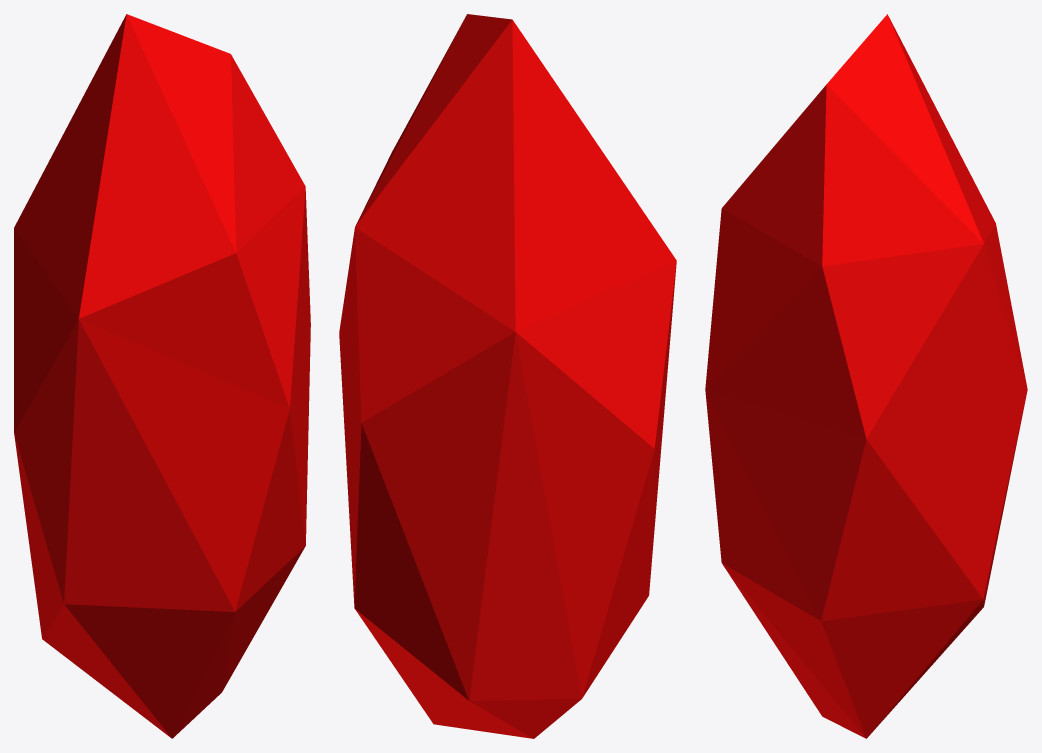
The model's file is red.fbx.
3 views of the same model, side by side, from view 1: azimuth 30°, elevation 25°; view 2: azimuth 150°, elevation 25°; view 3: azimuth 270°, elevation 25° (orthographic). The views are drawn at different scales.
Visible parts, largest first — view 1: Icosphere; view 2: Icosphere; view 3: Icosphere.
Boxes of the visible parts, bbox=[...] form: Icosphere: bbox=[14, 14, 310, 738]; Icosphere: bbox=[339, 14, 676, 738]; Icosphere: bbox=[705, 14, 1027, 738].
Size of the model in its own units: 209 by 473 by 199.
